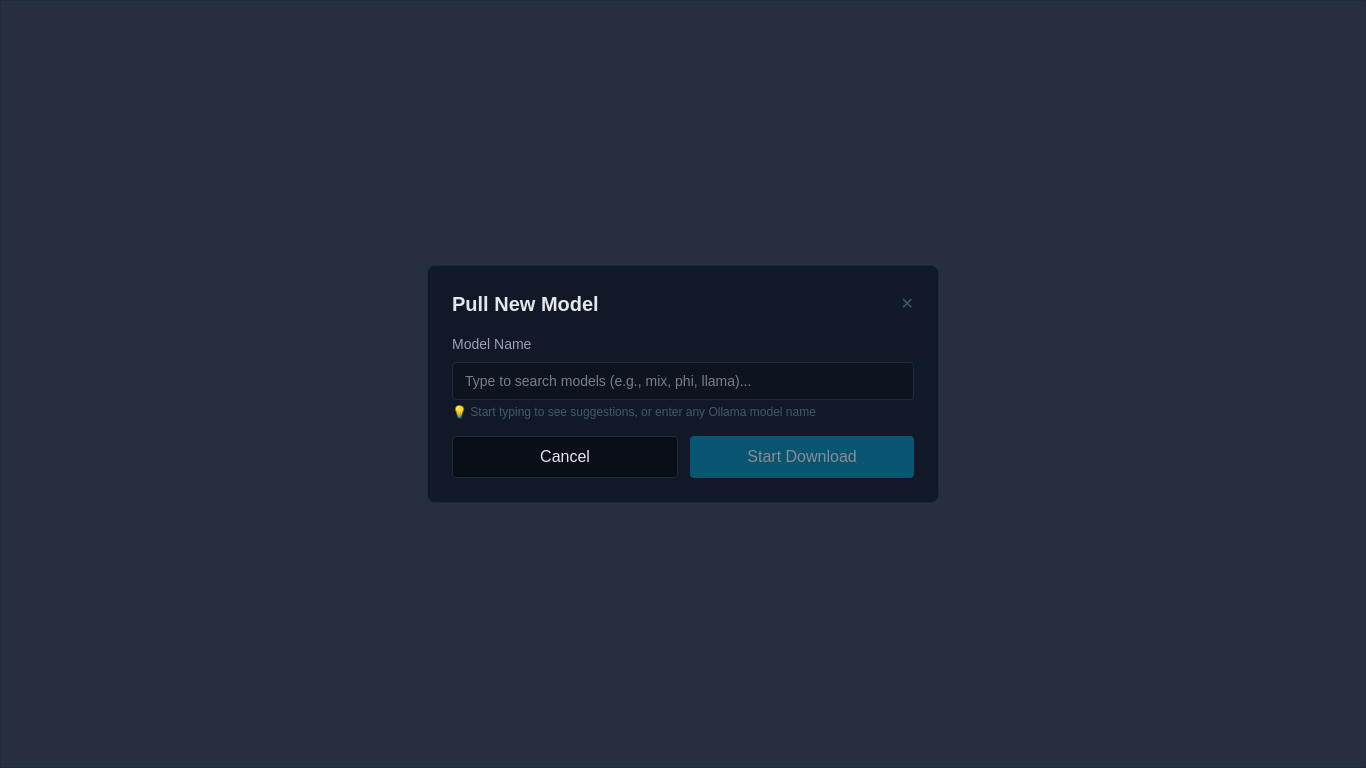
Test: PullModelDialog › handles status types
Type "m" into the field with placeholder "Type to search models (e.g., mix, phi, llama)...".
click(683, 381); type("m")  # box [452,362,914,400]
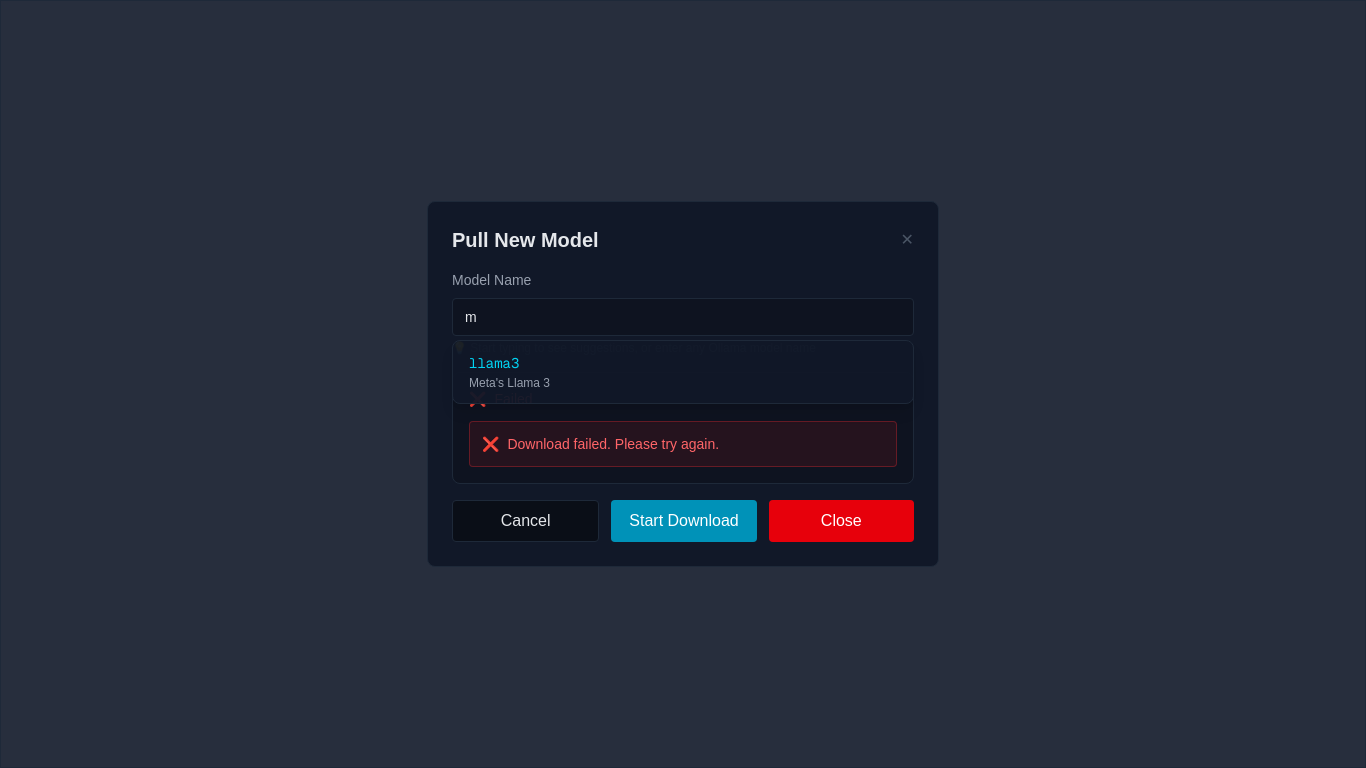
Expected: the text "Failed" is shown, [494,389,533,409]
